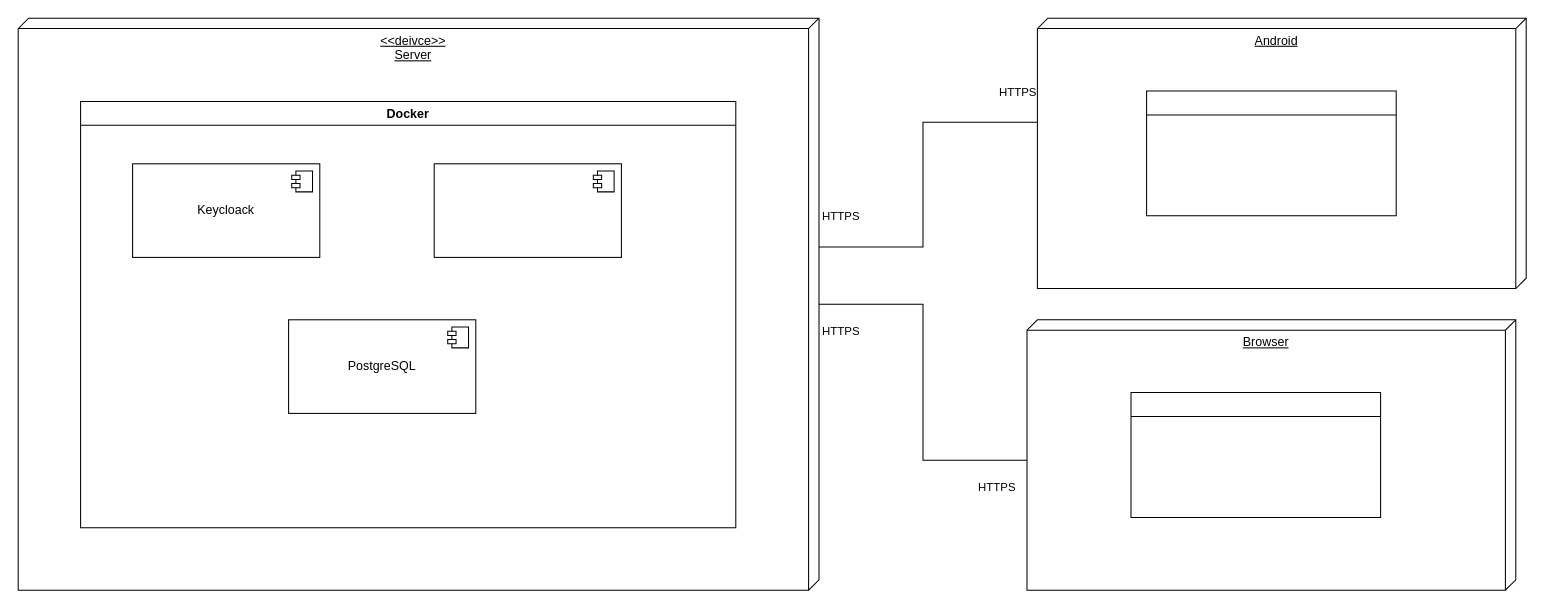
The diagram is 1544 pixels wide and 608 high, and some of its shapes have lost their labels. Each missing label, with the centre of its shape:
Admin app: the point at 1255,454
Backend: the point at 527,210
KnitWit mobile: the point at 1271,153
